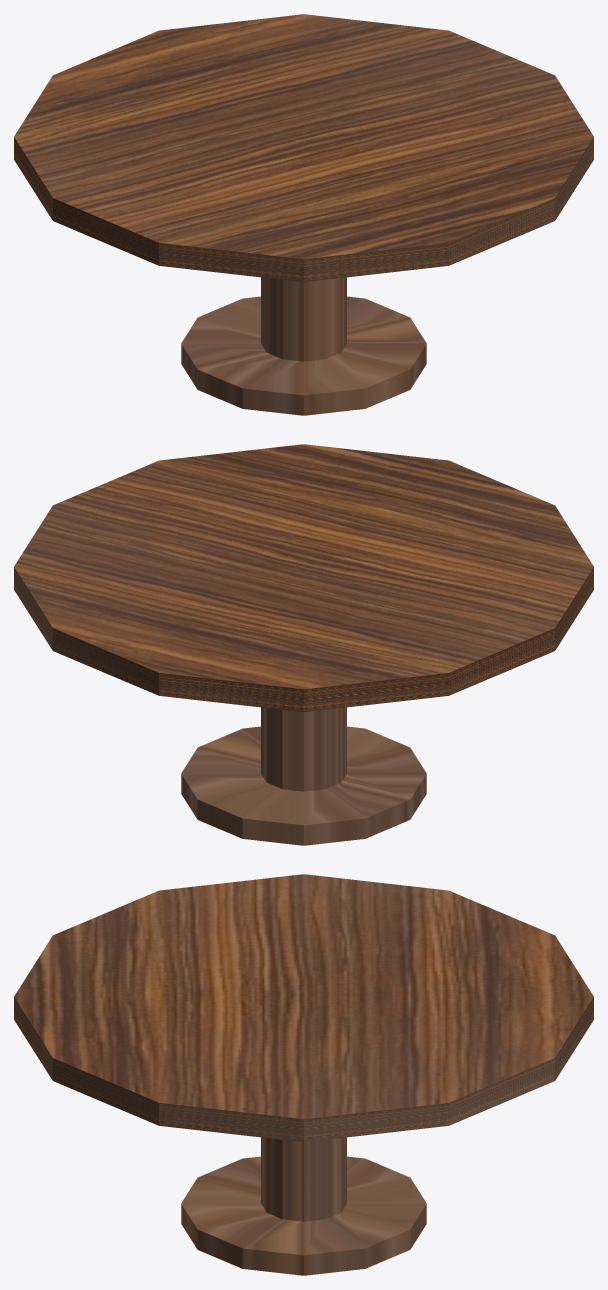
Rendered from Stol_okrugl.fbx.
The picture shows the model from 3 angles, top to bottom: view 1: azimuth 30°, elevation 25°; view 2: azimuth 150°, elevation 25°; view 3: azimuth 270°, elevation 25°; orthographic projection.
Parts seen in each view (by area): view 1: Cylinder; view 2: Cylinder; view 3: Cylinder.
Part boxes in pixels (left/top/right/bottom): Cylinder: left=14, top=14, right=593, bottom=415; Cylinder: left=14, top=444, right=593, bottom=845; Cylinder: left=14, top=874, right=593, bottom=1275.
Bounding box in the file's own units: 248 × 107 × 248.
